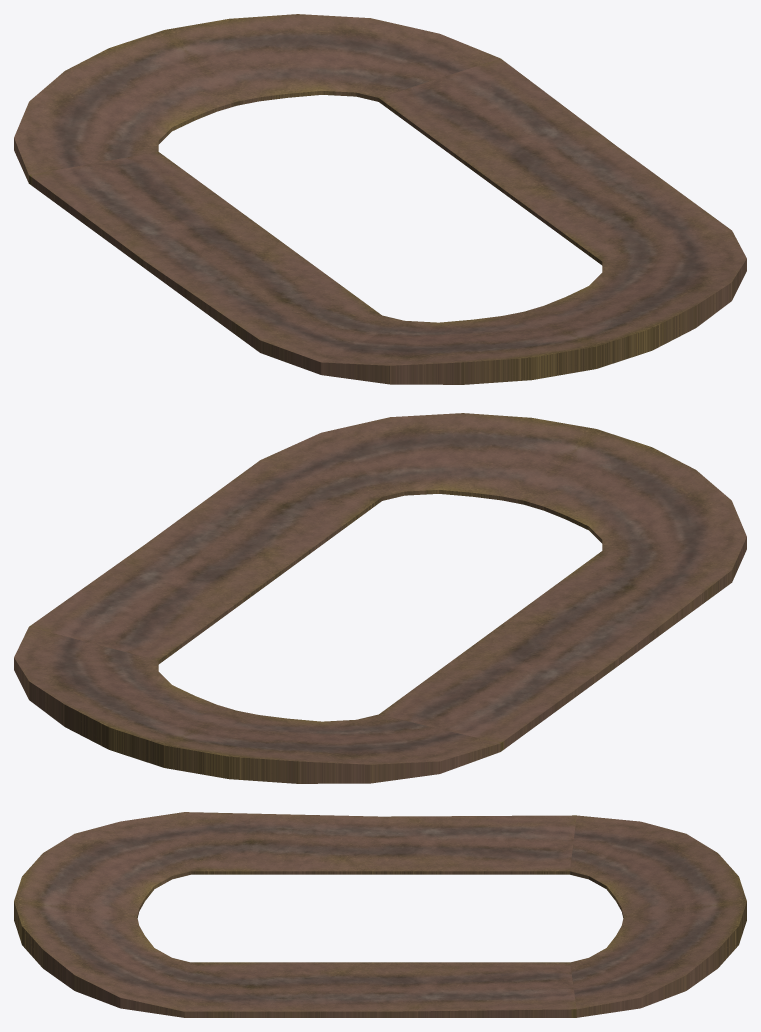
The model's file is PistaMapa1.fbx.
3 views of the same model, one above another, from view 1: azimuth 30°, elevation 25°; view 2: azimuth 150°, elevation 25°; view 3: azimuth 270°, elevation 25° (orthographic). The views are drawn at different scales.
Visible parts, largest first — view 1: Pista; view 2: Pista; view 3: Pista.
Boxes of the visible parts, x1,y1,x2,y2 form: Pista: (14, 14, 746, 384); Pista: (14, 413, 746, 783); Pista: (14, 812, 746, 1017).
Size of the model in its own units: 2997 by 136 by 4756.
